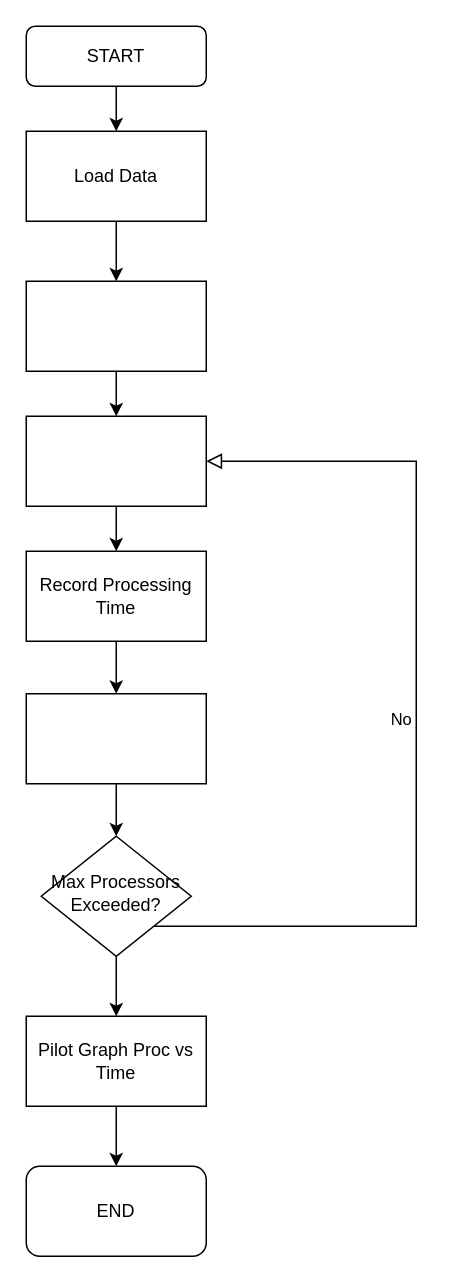
This 458x1283 diagram has some shape labels left out. The shapes that lost their labels are listed below. From the top down, each one's centre as x and y in pixels, then its label:
the point at 115,325: Set Number of Processors to 0
the point at 115,460: Parallel Process the Data
the point at 115,738: Increase Number of Processors by 1
